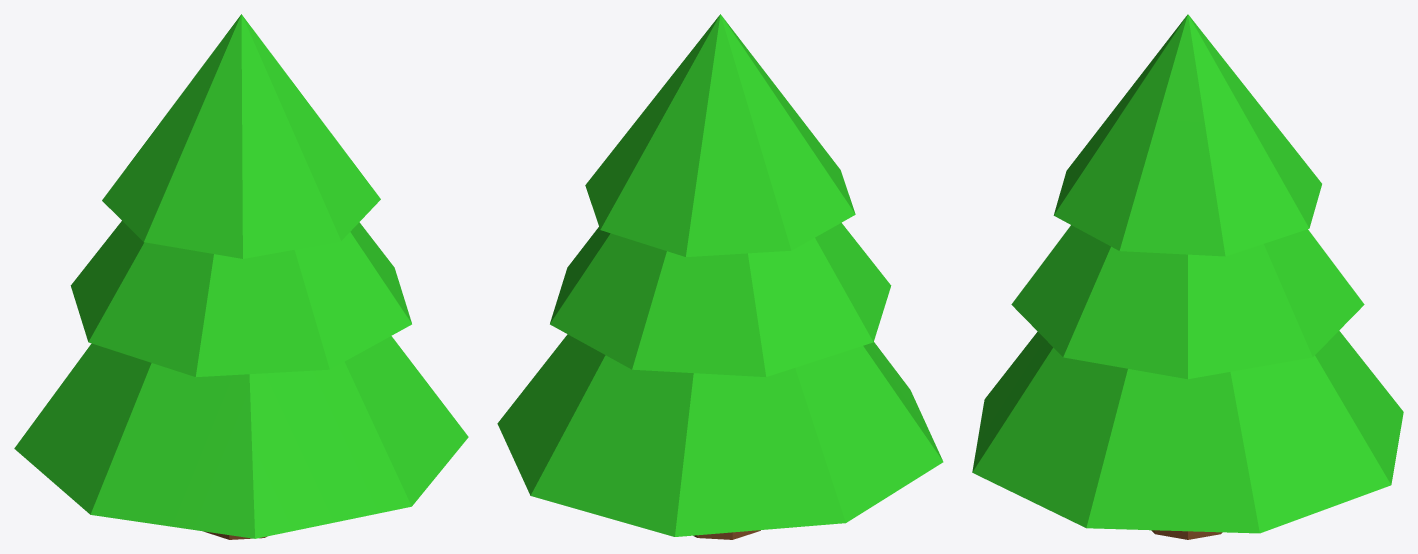
File: tree.fbx
3 renders of one model, left to right at view 1: azimuth 30°, elevation 25°; view 2: azimuth 150°, elevation 25°; view 3: azimuth 270°, elevation 25°, orthographic.
Visible parts, largest first — view 1: Cone.002; view 2: Cone.002; view 3: Cone.002.
Boxes of the visible parts, x1,y1,x2,y2 form: Cone.002: (14, 14, 468, 539); Cone.002: (497, 14, 943, 539); Cone.002: (972, 14, 1403, 539).
Bounding box in the file's own units: 309 × 401 × 309.
